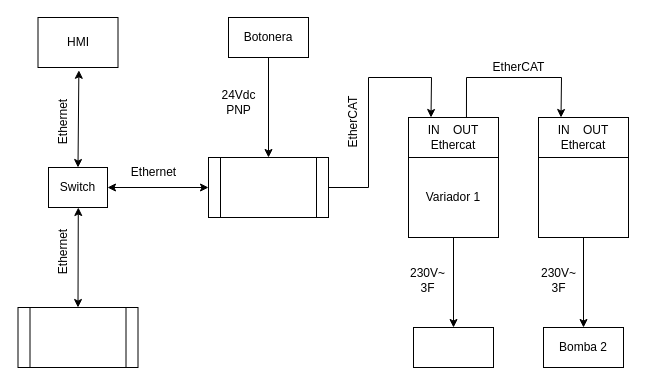
This 646x385 diagram has some shape labels left out. The shapes that lost their labels are listed below. From the top down, each one's centre as x and y in pixels, then its label:
At pixel 268 187: "PLC".
At pixel 583 197: "Variador 2".
At pixel 77 337: "PC".
At pixel 453 347: "Bomba 1".
